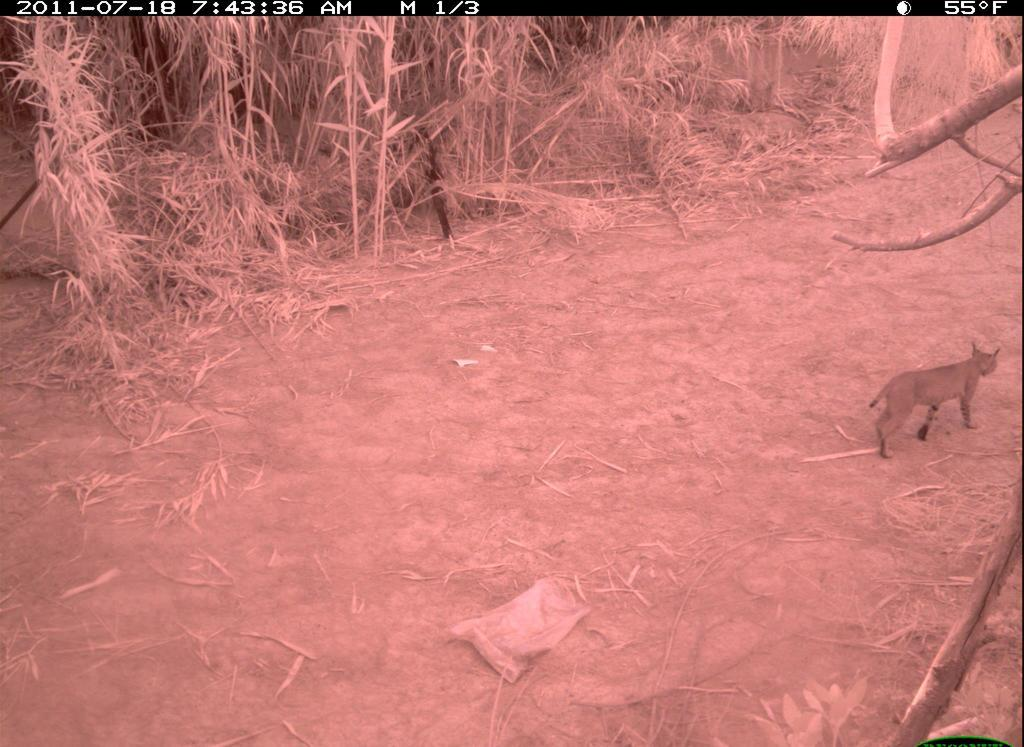bobcat: (863, 332, 1003, 465)
